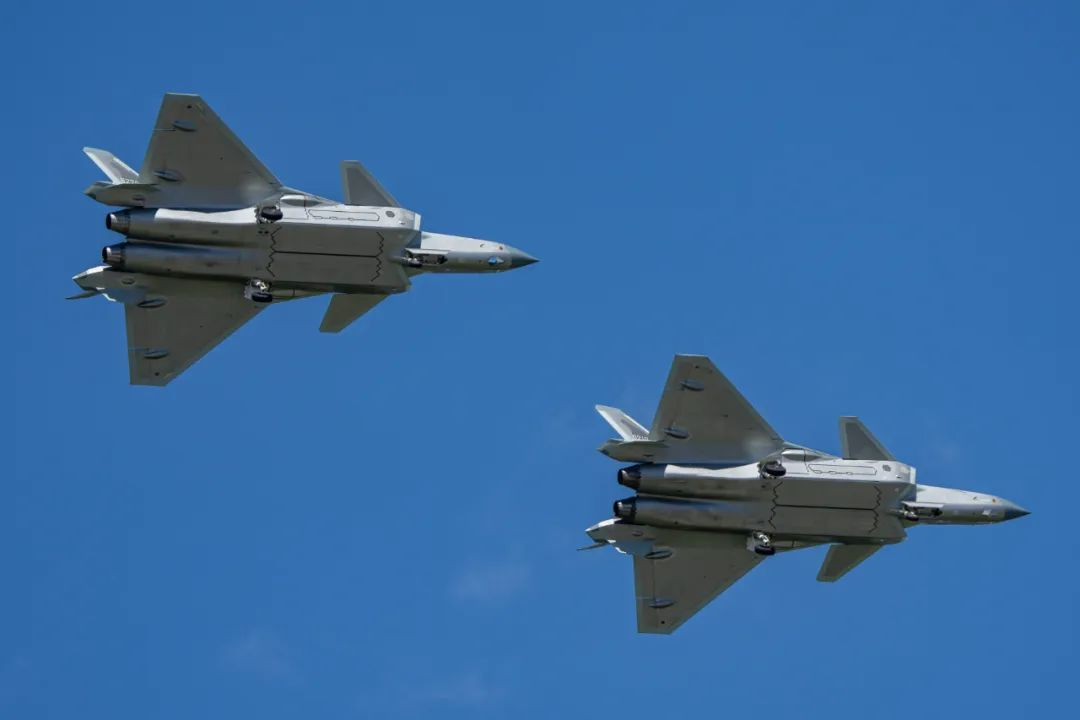J20: (64, 90, 542, 387), (575, 352, 1033, 636)
